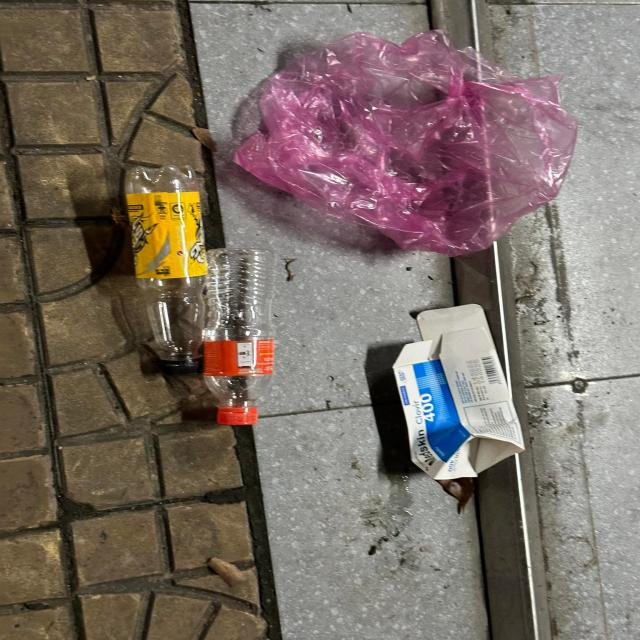bag: (234, 29, 579, 255)
bottle: (125, 162, 206, 375), (200, 247, 278, 425)
cardboard box: (392, 302, 526, 481)
